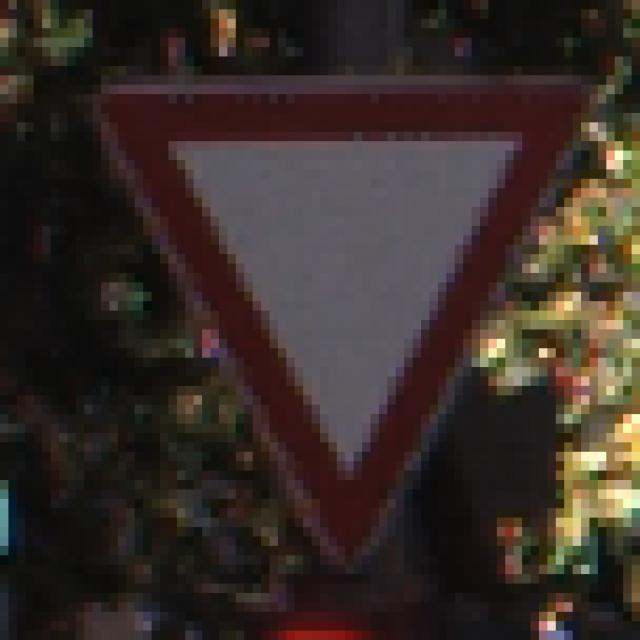Give Way: (60, 67, 590, 584)
